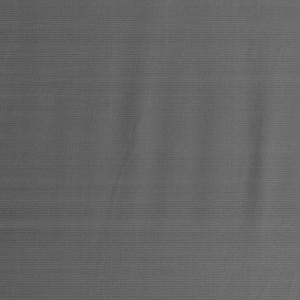Wrinkle: (103, 1, 165, 212), (234, 38, 284, 243)
